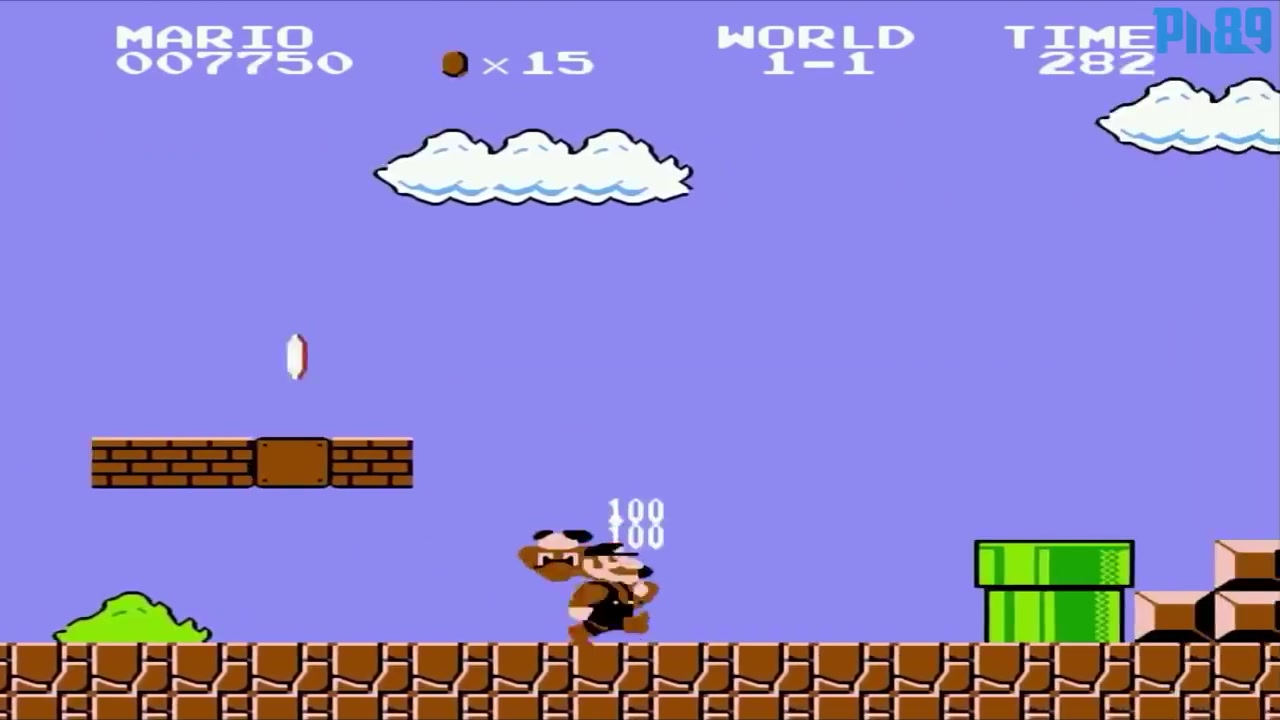mario: (556, 533, 673, 649)
